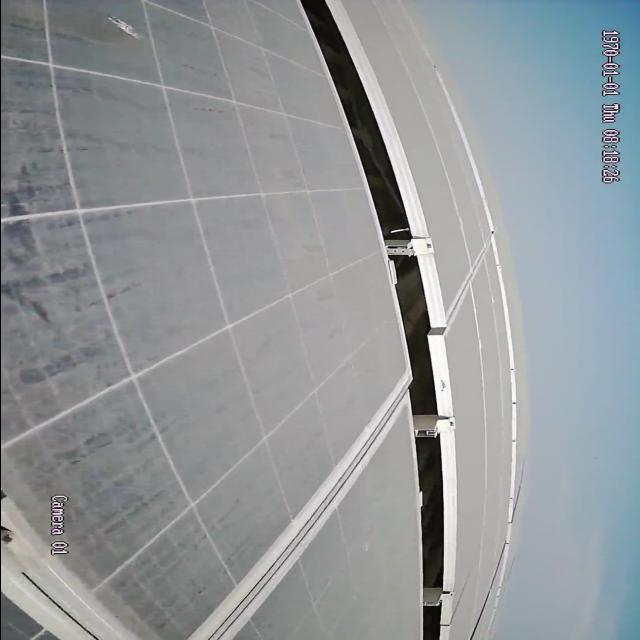interior panel: (196, 381, 401, 638), (0, 488, 136, 639)
outher panel: (297, 0, 454, 639)
